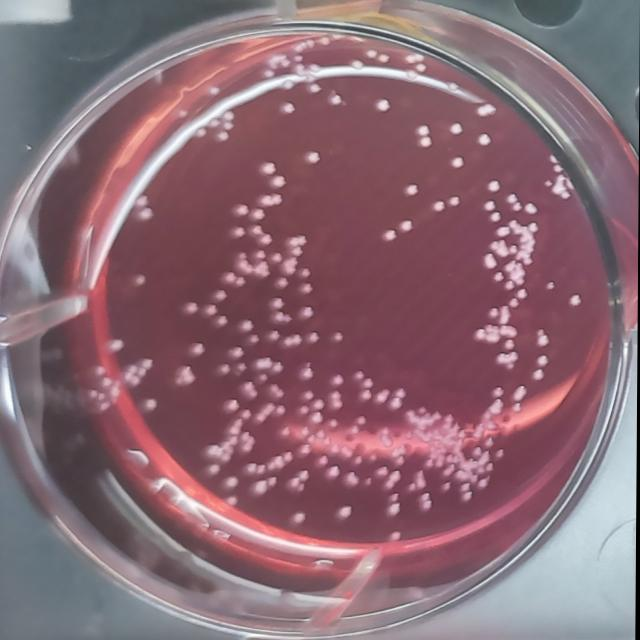StaphyloNegative: (121, 363, 148, 388), (248, 224, 276, 248), (505, 260, 529, 287), (471, 324, 500, 344), (173, 364, 197, 388), (551, 174, 571, 202), (258, 192, 286, 210), (239, 430, 256, 456), (238, 380, 260, 400), (254, 402, 274, 424), (474, 100, 498, 118), (489, 238, 510, 258), (340, 470, 361, 490), (505, 192, 524, 214), (256, 160, 279, 178), (328, 390, 346, 412), (373, 96, 392, 116), (336, 502, 355, 522), (416, 492, 433, 514), (281, 333, 304, 349), (512, 383, 531, 402), (401, 180, 421, 198), (303, 149, 323, 167), (268, 173, 288, 191), (135, 206, 155, 224), (267, 382, 287, 400), (187, 341, 208, 358), (254, 259, 271, 279), (281, 256, 298, 276), (567, 291, 585, 309), (224, 396, 242, 414), (328, 372, 346, 390), (485, 178, 504, 195), (475, 131, 494, 148), (449, 154, 468, 171), (287, 233, 310, 247), (535, 328, 551, 348), (231, 203, 251, 219), (248, 208, 268, 224), (253, 356, 273, 372), (272, 310, 294, 324), (279, 100, 296, 118), (296, 442, 313, 460), (326, 91, 345, 107), (236, 258, 255, 274), (141, 396, 160, 412), (104, 339, 127, 352), (399, 218, 416, 235), (314, 452, 331, 469), (298, 281, 316, 297), (447, 120, 465, 136), (402, 52, 426, 64), (181, 300, 199, 316), (291, 510, 309, 526), (483, 252, 498, 271), (499, 325, 519, 339), (225, 346, 245, 360), (430, 198, 446, 215), (330, 329, 347, 345), (222, 271, 238, 288), (308, 410, 325, 426), (326, 464, 342, 481), (311, 397, 329, 412), (382, 227, 398, 243), (531, 367, 547, 383), (298, 306, 314, 322), (216, 362, 232, 378), (225, 474, 241, 490), (386, 502, 402, 518), (491, 384, 507, 400), (535, 352, 552, 367), (541, 279, 559, 293), (414, 124, 432, 138), (269, 296, 287, 310), (297, 367, 315, 381), (229, 226, 245, 241), (203, 302, 218, 318), (306, 332, 322, 347), (270, 360, 286, 375), (388, 396, 404, 411), (239, 320, 256, 334), (282, 448, 295, 466), (215, 314, 230, 329), (297, 266, 313, 280), (483, 198, 497, 214), (489, 210, 503, 226), (523, 202, 539, 216), (418, 136, 434, 150), (307, 82, 323, 96), (193, 126, 209, 140), (132, 274, 148, 288), (134, 193, 150, 207), (349, 58, 366, 71), (208, 462, 222, 477), (439, 480, 454, 494), (496, 225, 512, 238), (251, 248, 267, 261), (213, 290, 230, 302), (448, 194, 462, 208), (275, 276, 289, 290), (280, 426, 294, 440), (140, 356, 154, 370), (361, 376, 375, 390), (298, 403, 311, 418), (255, 373, 271, 385), (502, 279, 516, 292), (268, 329, 281, 343), (493, 272, 506, 285), (376, 53, 390, 65), (208, 85, 222, 97), (216, 130, 230, 142), (208, 118, 222, 130), (235, 276, 249, 288), (274, 404, 288, 416), (281, 80, 296, 91), (488, 307, 501, 319), (528, 222, 541, 234), (223, 109, 235, 122), (248, 333, 261, 345), (272, 251, 283, 265), (508, 296, 520, 308), (516, 288, 528, 300), (303, 389, 315, 401), (322, 436, 334, 448), (551, 163, 564, 174), (365, 49, 378, 60), (415, 64, 429, 74), (240, 408, 254, 418), (406, 70, 418, 81), (292, 246, 304, 257), (509, 243, 519, 256), (447, 82, 459, 92), (545, 178, 553, 188)
